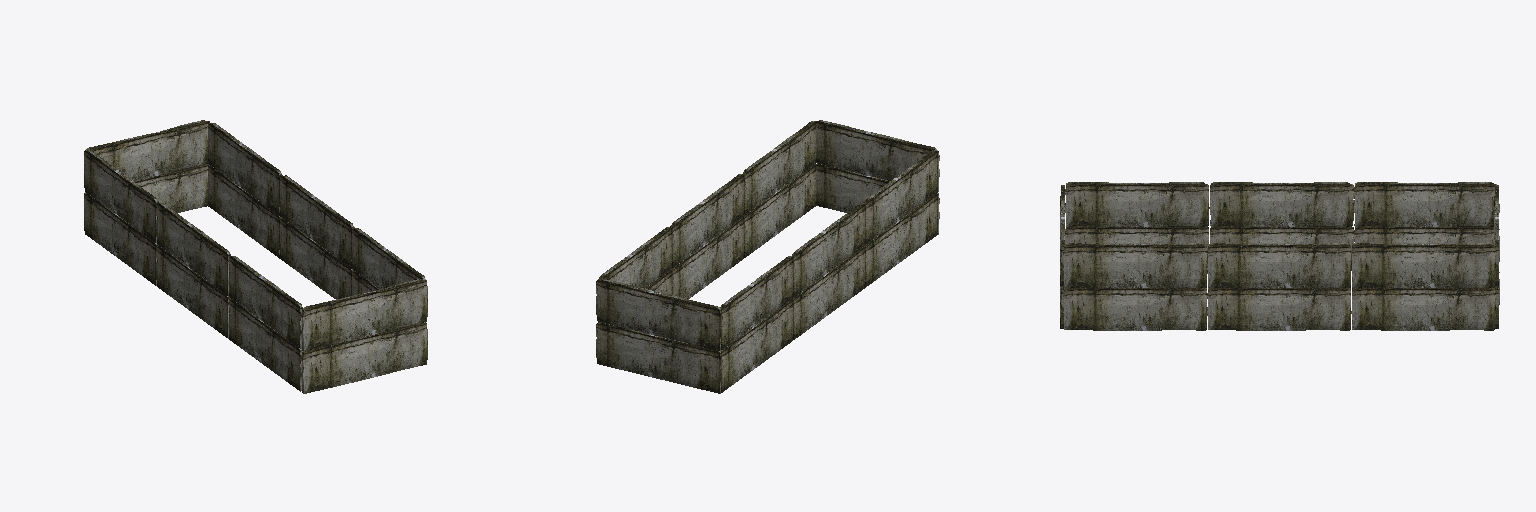
3 views of the same model, side by side, from view 1: azimuth 30°, elevation 25°; view 2: azimuth 150°, elevation 25°; view 3: azimuth 270°, elevation 25° (orthographic).
Parts seen in each view (by area): view 1: Cube.005_Cube.014, Cube.006, Cube.012_Cube.018, Cube.003_Cube.013, Cube.016_Cube.005, Cube.011_Cube.017, Cube.015_Cube.003, Cube.008_Cube.016, Cube.004, Cube.014_Cube.002, Cube.001_Cube.011, Cube.010 (+3 smaller); view 2: Cube.012_Cube.018, Cube.002_Cube.012, Cube.005_Cube.014, Cube.011_Cube.017, Cube.003_Cube.013, Cube.016_Cube.005, Cube.015_Cube.003, Cube.007_Cube.015, Cube.001_Cube.011, Cube.014_Cube.002, Cube.004, Cube.009 (+3 smaller); view 3: Cube.008_Cube.016, Cube.015_Cube.003, Cube.016_Cube.005, Cube.007_Cube.015, Cube.003_Cube.013, Cube.011_Cube.017, Cube.010, Cube.013_Cube.001, Cube.009, Cube.014_Cube.002, Cube.004, Cube.001_Cube.011.
Boxes of the visible parts, x1=… form: Cube.005_Cube.014: x1=301, y1=279, x2=427, y2=350; Cube.006: x1=301, y1=323, x2=427, y2=393; Cube.012_Cube.018: x1=86, y1=120, x2=209, y2=180; Cube.003_Cube.013: x1=229, y1=256, x2=302, y2=348; Cube.016_Cube.005: x1=156, y1=203, x2=230, y2=295; Cube.011_Cube.017: x1=84, y1=150, x2=158, y2=242; Cube.015_Cube.003: x1=280, y1=175, x2=354, y2=268; Cube.008_Cube.016: x1=208, y1=123, x2=282, y2=215; Cube.004: x1=229, y1=299, x2=301, y2=391; Cube.014_Cube.002: x1=156, y1=246, x2=230, y2=338; Cube.001_Cube.011: x1=84, y1=193, x2=158, y2=285; Cube.010: x1=208, y1=165, x2=281, y2=258; Cube.012_Cube.018: x1=596, y1=279, x2=721, y2=350; Cube.002_Cube.012: x1=596, y1=322, x2=720, y2=393; Cube.005_Cube.014: x1=814, y1=120, x2=939, y2=191; Cube.011_Cube.017: x1=720, y1=256, x2=793, y2=349; Cube.003_Cube.013: x1=864, y1=150, x2=937, y2=243; Cube.016_Cube.005: x1=792, y1=203, x2=865, y2=296; Cube.015_Cube.003: x1=670, y1=174, x2=744, y2=267; Cube.007_Cube.015: x1=743, y1=121, x2=815, y2=214; Cube.001_Cube.011: x1=721, y1=299, x2=793, y2=392; Cube.014_Cube.002: x1=793, y1=247, x2=865, y2=339; Cube.004: x1=864, y1=194, x2=937, y2=286; Cube.009: x1=744, y1=165, x2=815, y2=257; Cube.008_Cube.016: x1=1352, y1=243, x2=1495, y2=287; Cube.015_Cube.003: x1=1207, y1=243, x2=1351, y2=287; Cube.016_Cube.005: x1=1210, y1=182, x2=1353, y2=226; Cube.007_Cube.015: x1=1063, y1=243, x2=1207, y2=287; Cube.003_Cube.013: x1=1065, y1=182, x2=1209, y2=226; Cube.011_Cube.017: x1=1354, y1=182, x2=1496, y2=226; Cube.010: x1=1352, y1=288, x2=1495, y2=330; Cube.013_Cube.001: x1=1207, y1=288, x2=1351, y2=330; Cube.009: x1=1063, y1=288, x2=1207, y2=330; Cube.014_Cube.002: x1=1210, y1=226, x2=1353, y2=267; Cube.004: x1=1065, y1=226, x2=1208, y2=263; Cube.001_Cube.011: x1=1354, y1=226, x2=1493, y2=245.
Size of the model in its own units: 5.92 by 3.86 by 17.68.
1 materials, 1 textured.